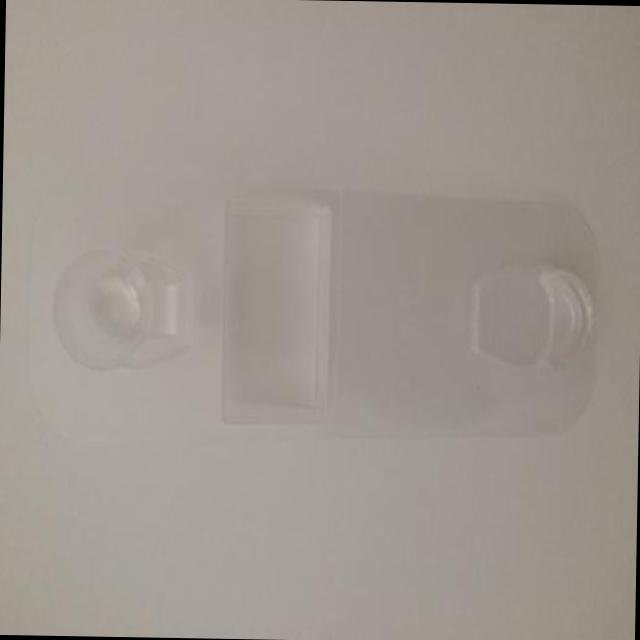Trash: (42, 141, 624, 460)
